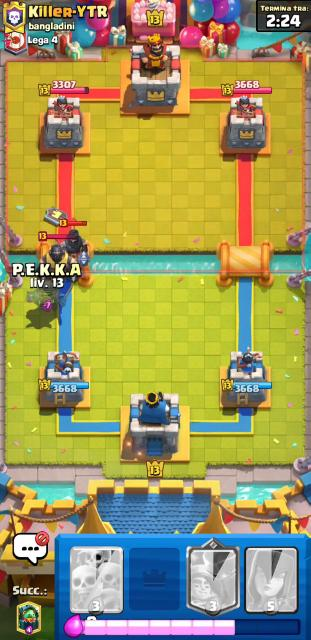enemy_melee: (36, 232, 81, 285), (59, 220, 89, 268)
